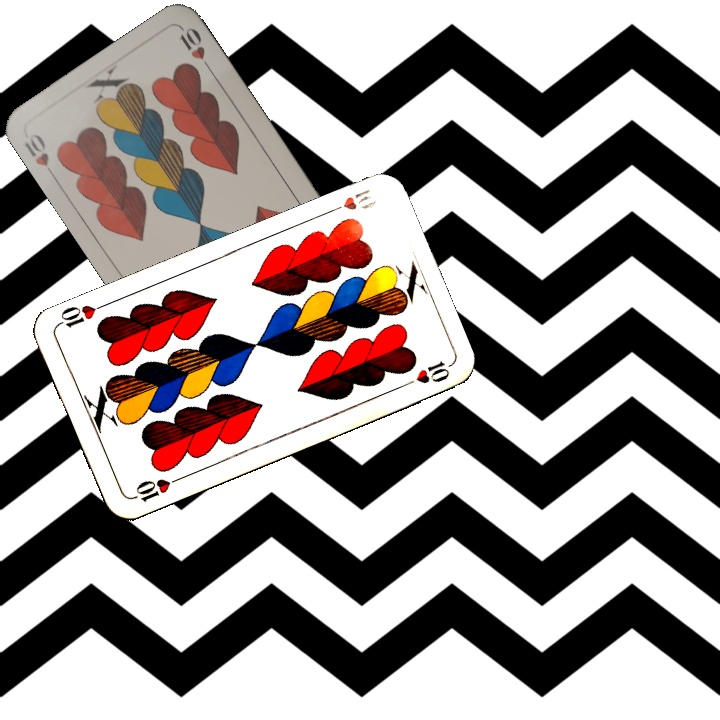H10: (20, 129, 60, 182), (127, 473, 184, 505), (323, 185, 379, 217)
